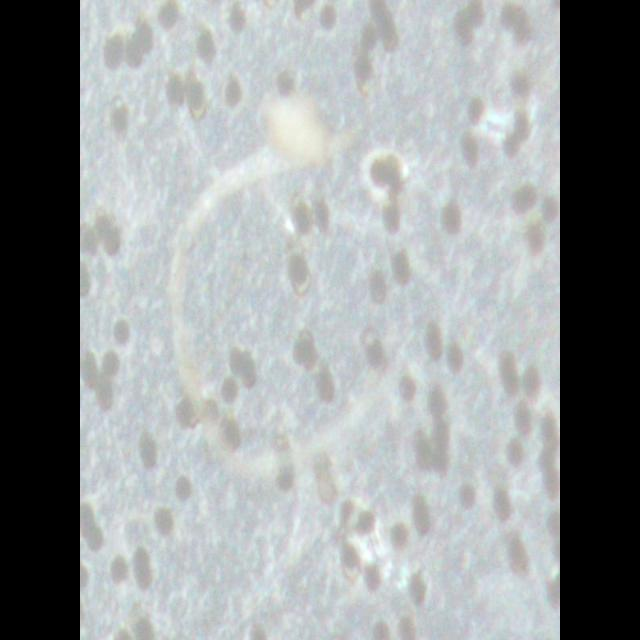Fibre: (168, 82, 428, 488)
